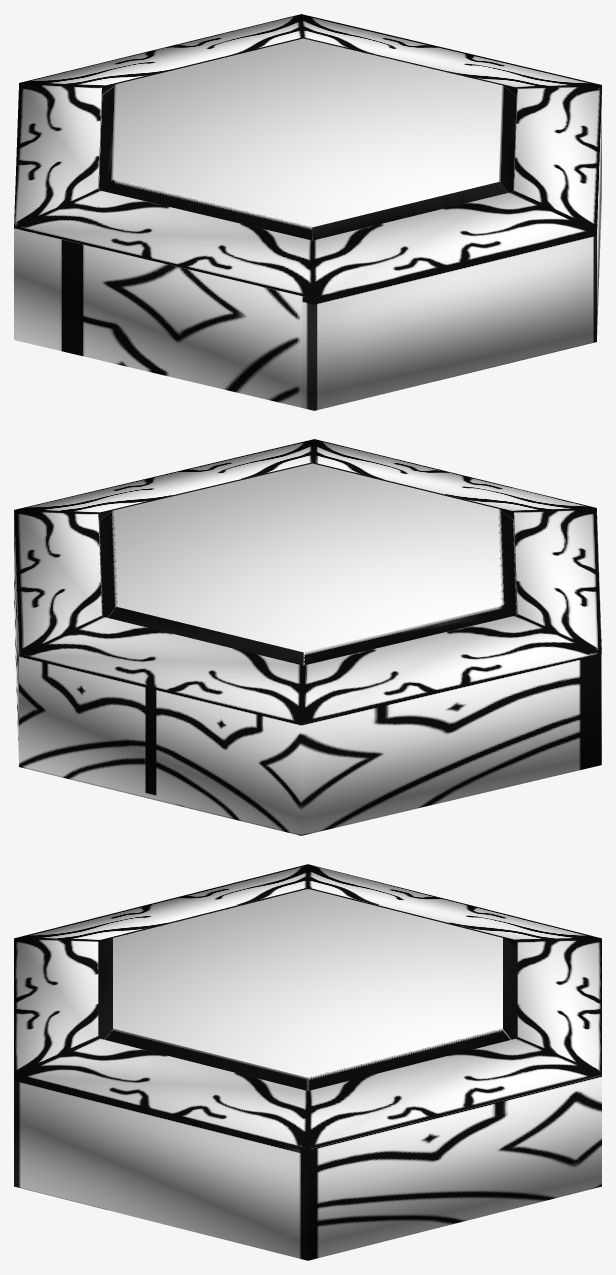
The model's file is chip.fbx.
3 views of the same model, one above another, from view 1: azimuth 30°, elevation 25°; view 2: azimuth 150°, elevation 25°; view 3: azimuth 270°, elevation 25° (orthographic).
Visible parts, largest first — view 1: Cube; view 2: Cube; view 3: Cube.
Boxes of the visible parts, box(x1,y1,x2,y2) form: Cube: box(14, 14, 601, 410); Cube: box(14, 439, 601, 835); Cube: box(14, 864, 601, 1260).
Bounding box in the file's own units: 230 × 50.56 × 200.
